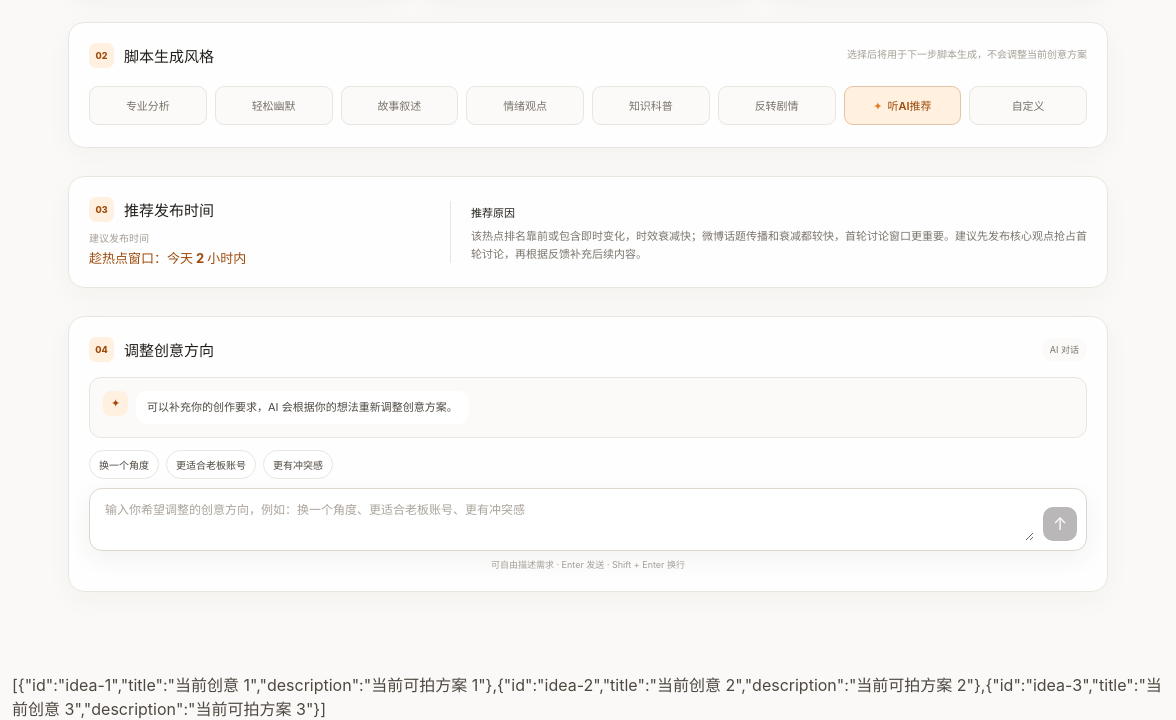
Test: 所有聊天修改链路 › Step3 发送当前完整创意并同步更新 Context 和页面
(page scrolled)
Check: the heading "调整创意方向" is shown, box [124,339,214,360]
Check: the text "可以补充你的创作要求，AI 会根据你的想法重新调整创意方案。" is shown, box [136,391,469,424]
Type "更幽默" into the text box named "输入希望调整的创意方向". click: [568, 520]
box: [103,498,1034,541]
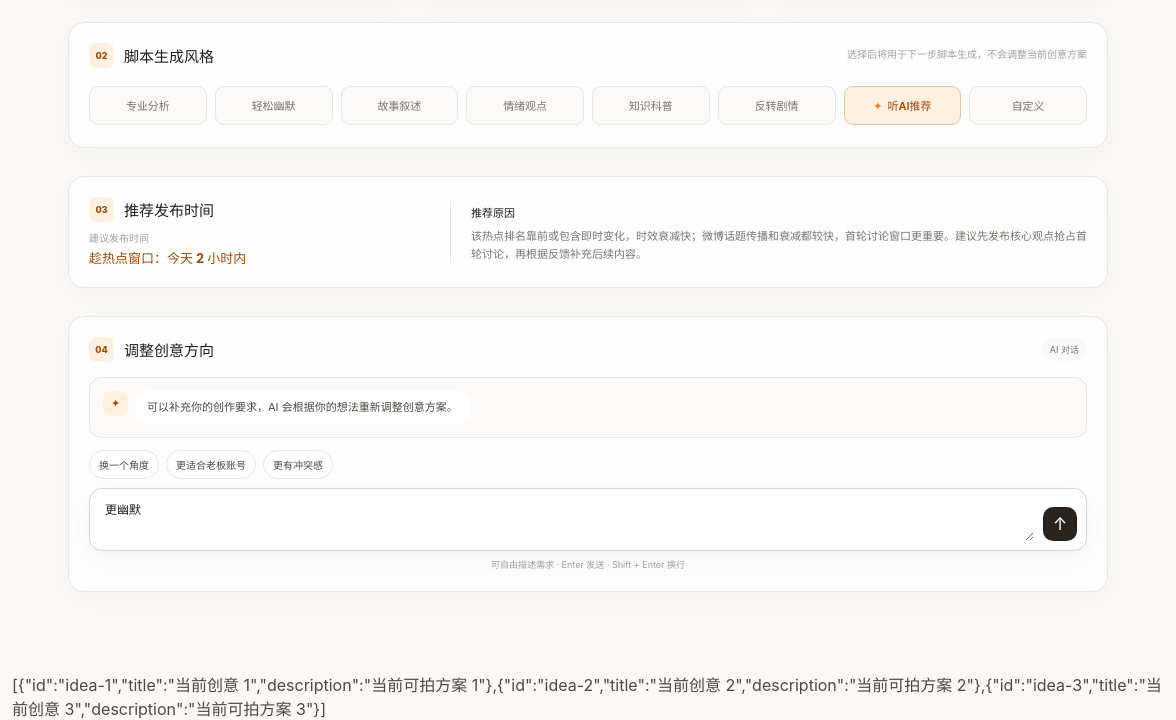
Click the button named "发送创意要求". click: [1060, 524]
box: [1043,507,1077,541]
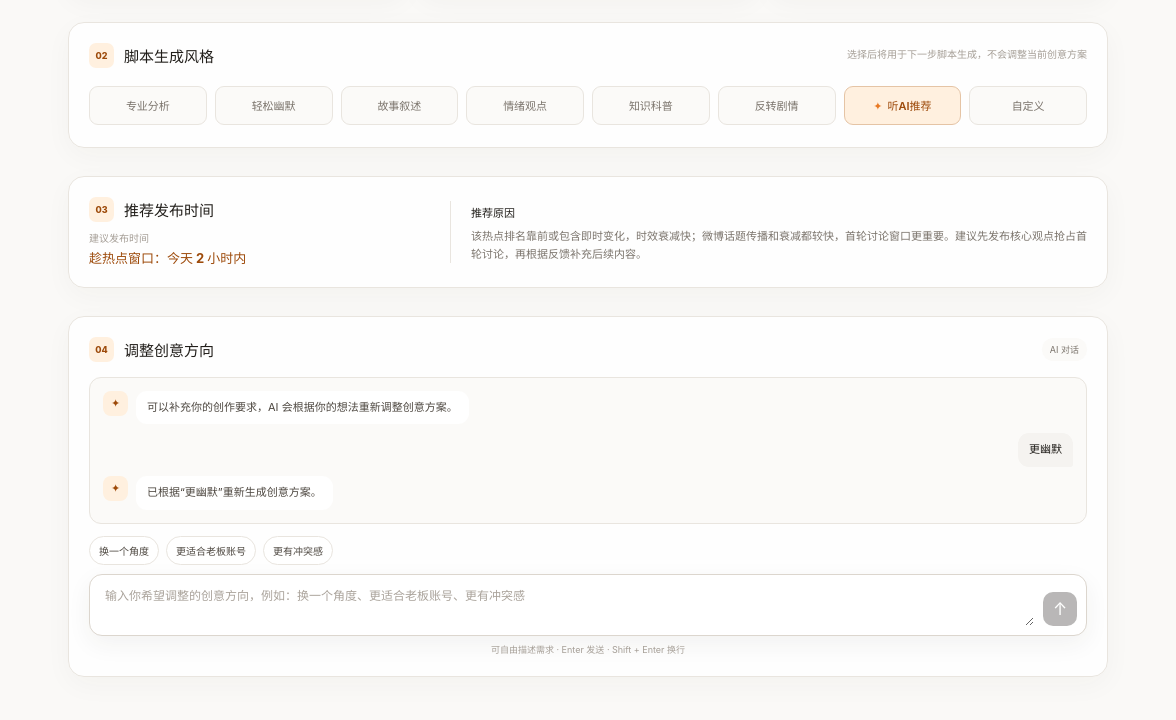
Check: the text "更幽默" is shown, box [1018,433,1073,467]
Check: the text "已根据“更幽默”重新生成创意方案。" is shown, box [136,476,333,510]
